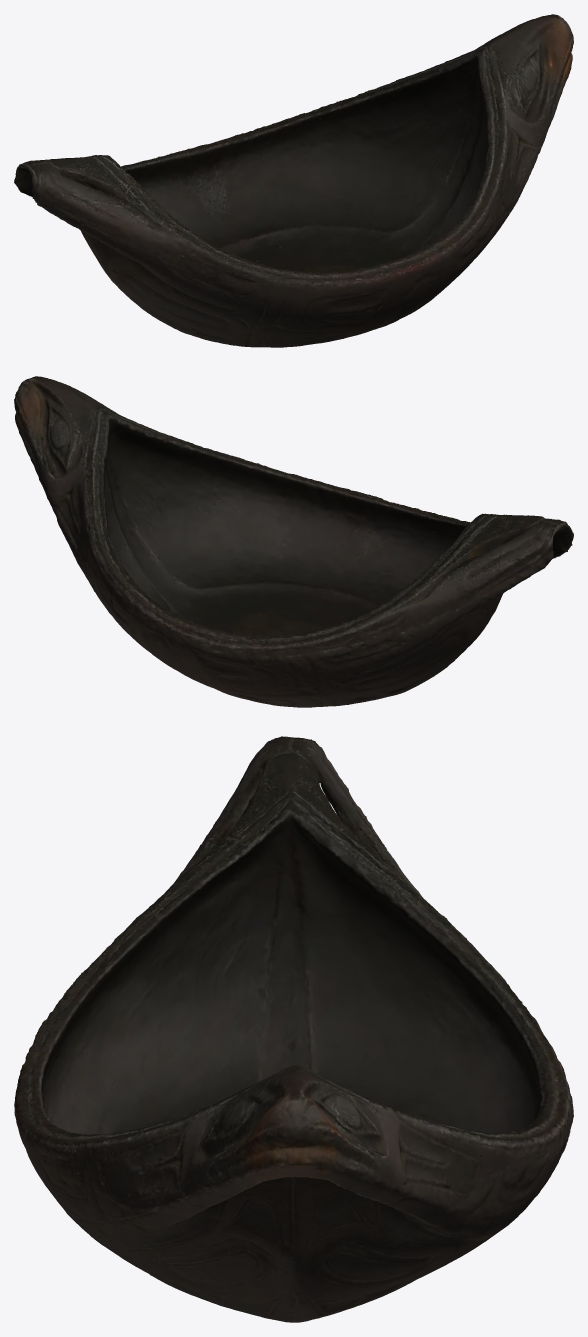
The model's file is preview.glb.
3 views of the same model, one above another, from view 1: azimuth 30°, elevation 25°; view 2: azimuth 150°, elevation 25°; view 3: azimuth 270°, elevation 25° (orthographic). The views are drawn at different scales.
Parts seen in each view (by area): view 1: Model_material0_0; view 2: Model_material0_0; view 3: Model_material0_0.
Boxes of the visible parts, <box> form: Model_material0_0: <box>14,14,573,347</box>; Model_material0_0: <box>14,376,573,707</box>; Model_material0_0: <box>14,736,573,1322</box>.
Size of the model in its own units: 957 by 385 by 561.
Materials: 1 (1 with a texture image).
